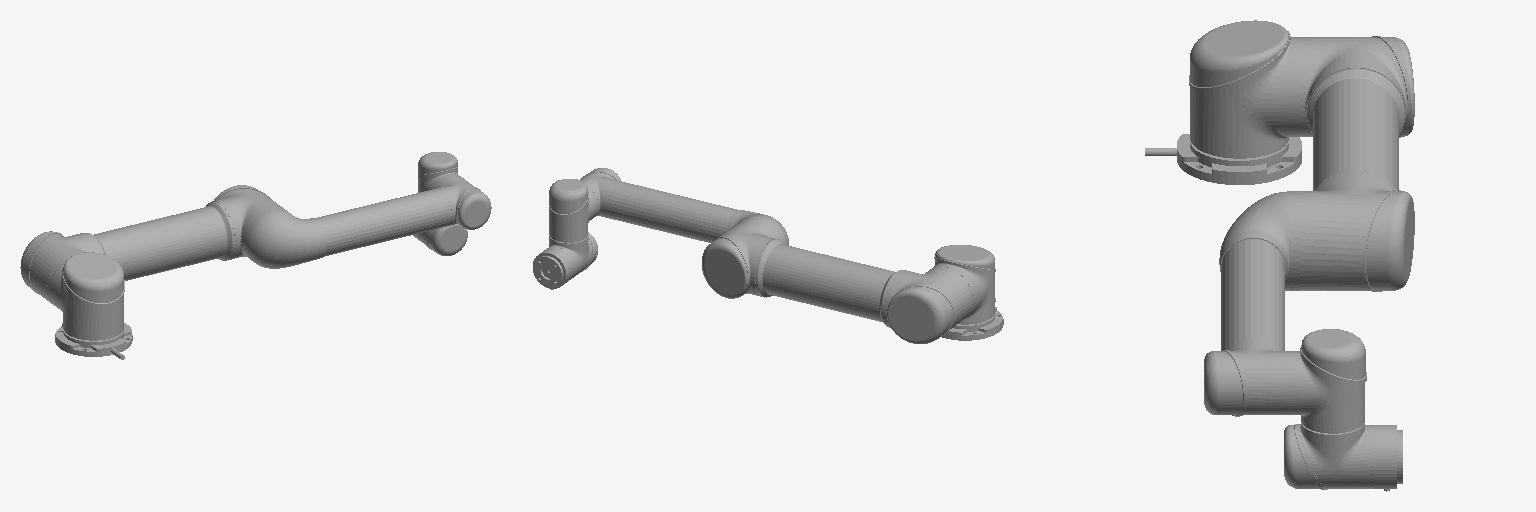
URDF robot description (ur5):
<?xml version="1.0" ?>
<!-- =================================================================================== -->
<!-- |    This document was autogenerated by xacro from universal_robot/ur_description/urdf/ur5_robot_.urdf.xacro | -->
<!-- |    EDITING THIS FILE BY HAND IS NOT RECOMMENDED                                 | -->
<!-- =================================================================================== -->
<robot name="ur5" xmlns:xacro="http://ros.org/wiki/xacro">
  <!-- measured from model -->
  <!--property name="shoulder_height" value="0.089159" /-->
  <!--property name="shoulder_offset" value="0.13585" /-->
  <!-- shoulder_offset - elbow_offset + wrist_1_length = 0.10915 -->
  <!--property name="upper_arm_length" value="0.42500" /-->
  <!--property name="elbow_offset" value="0.1197" /-->
  <!-- CAD measured -->
  <!--property name="forearm_length" value="0.39225" /-->
  <!--property name="wrist_1_length" value="0.093" /-->
  <!-- CAD measured -->
  <!--property name="wrist_2_length" value="0.09465" /-->
  <!-- In CAD this distance is 0.930, but in the spec it is 0.09465 -->
  <!--property name="wrist_3_length" value="0.0823" /-->
  <!-- manually measured -->
  <link name="base_link">
    <visual>
      <geometry>
        <mesh filename="package://ur_description/meshes/ur5/visual/base.dae"/>
      </geometry>
      <material name="LightGrey">
        <color rgba="0.7 0.7 0.7 1.0"/>
      </material>
    </visual>
    <collision>
      <geometry>
        <mesh filename="package://ur_description/meshes/ur5/collision/base.stl"/>
      </geometry>
    </collision>
    <inertial>
      <mass value="4.0"/>
      <origin rpy="0 0 0" xyz="0.0 0.0 0.0"/>
      <inertia ixx="0.00443333156" ixy="0.0" ixz="0.0" iyy="0.00443333156" iyz="0.0" izz="0.0072"/>
    </inertial>
  </link>
  <joint name="shoulder_pan_joint" type="revolute">
    <parent link="base_link"/>
    <child link="shoulder_link"/>
    <origin rpy="0.0 0.0 0.0" xyz="0.0 0.0 0.089159"/>
    <axis xyz="0 0 1"/>
    <limit effort="150.0" lower="-3.14159265359" upper="3.14159265359" velocity="3.15"/>
    <dynamics damping="0.0" friction="0.0"/>
  </joint>
  <link name="shoulder_link">
    <visual>
      <geometry>
        <mesh filename="package://ur_description/meshes/ur5/visual/shoulder.dae"/>
      </geometry>
      <material name="LightGrey">
        <color rgba="0.7 0.7 0.7 1.0"/>
      </material>
    </visual>
    <collision>
      <geometry>
        <mesh filename="package://ur_description/meshes/ur5/collision/shoulder.stl"/>
      </geometry>
    </collision>
    <inertial>
      <mass value="3.7"/>
      <origin rpy="0 0 0" xyz="0.0 0.0 0.0"/>
      <inertia ixx="0.010267495893" ixy="0.0" ixz="0.0" iyy="0.010267495893" iyz="0.0" izz="0.00666"/>
    </inertial>
  </link>
  <joint name="shoulder_lift_joint" type="revolute">
    <parent link="shoulder_link"/>
    <child link="upper_arm_link"/>
    <origin rpy="0.0 1.57079632679 0.0" xyz="0.0 0.13585 0.0"/>
    <axis xyz="0 1 0"/>
    <limit effort="150.0" lower="-3.14159265359" upper="3.14159265359" velocity="3.15"/>
    <dynamics damping="0.0" friction="0.0"/>
  </joint>
  <link name="upper_arm_link">
    <visual>
      <geometry>
        <mesh filename="package://ur_description/meshes/ur5/visual/upperarm.dae"/>
      </geometry>
      <material name="LightGrey">
        <color rgba="0.7 0.7 0.7 1.0"/>
      </material>
    </visual>
    <collision>
      <geometry>
        <mesh filename="package://ur_description/meshes/ur5/collision/upperarm.stl"/>
      </geometry>
    </collision>
    <inertial>
      <mass value="8.393"/>
      <origin rpy="0 0 0" xyz="0.0 0.0 0.28"/>
      <inertia ixx="0.22689067591" ixy="0.0" ixz="0.0" iyy="0.22689067591" iyz="0.0" izz="0.0151074"/>
    </inertial>
  </link>
  <joint name="elbow_joint" type="revolute">
    <parent link="upper_arm_link"/>
    <child link="forearm_link"/>
    <origin rpy="0.0 0.0 0.0" xyz="0.0 -0.1197 0.425"/>
    <axis xyz="0 1 0"/>
    <limit effort="150.0" lower="-3.14159265359" upper="3.14159265359" velocity="3.15"/>
    <dynamics damping="0.0" friction="0.0"/>
  </joint>
  <link name="forearm_link">
    <visual>
      <geometry>
        <mesh filename="package://ur_description/meshes/ur5/visual/forearm.dae"/>
      </geometry>
      <material name="LightGrey">
        <color rgba="0.7 0.7 0.7 1.0"/>
      </material>
    </visual>
    <collision>
      <geometry>
        <mesh filename="package://ur_description/meshes/ur5/collision/forearm.stl"/>
      </geometry>
    </collision>
    <inertial>
      <mass value="2.275"/>
      <origin rpy="0 0 0" xyz="0.0 0.0 0.25"/>
      <inertia ixx="0.049443313556" ixy="0.0" ixz="0.0" iyy="0.049443313556" iyz="0.0" izz="0.004095"/>
    </inertial>
  </link>
  <joint name="wrist_1_joint" type="revolute">
    <parent link="forearm_link"/>
    <child link="wrist_1_link"/>
    <origin rpy="0.0 1.57079632679 0.0" xyz="0.0 0.0 0.39225"/>
    <axis xyz="0 1 0"/>
    <limit effort="28.0" lower="-3.14159265359" upper="3.14159265359" velocity="3.2"/>
    <dynamics damping="0.0" friction="0.0"/>
  </joint>
  <link name="wrist_1_link">
    <visual>
      <geometry>
        <mesh filename="package://ur_description/meshes/ur5/visual/wrist1.dae"/>
      </geometry>
      <material name="LightGrey">
        <color rgba="0.7 0.7 0.7 1.0"/>
      </material>
    </visual>
    <collision>
      <geometry>
        <mesh filename="package://ur_description/meshes/ur5/collision/wrist1.stl"/>
      </geometry>
    </collision>
    <inertial>
      <mass value="1.219"/>
      <origin rpy="0 0 0" xyz="0.0 0.0 0.0"/>
      <inertia ixx="0.111172755531" ixy="0.0" ixz="0.0" iyy="0.111172755531" iyz="0.0" izz="0.21942"/>
    </inertial>
  </link>
  <joint name="wrist_2_joint" type="revolute">
    <parent link="wrist_1_link"/>
    <child link="wrist_2_link"/>
    <origin rpy="0.0 0.0 0.0" xyz="0.0 0.093 0.0"/>
    <axis xyz="0 0 1"/>
    <limit effort="28.0" lower="-3.14159265359" upper="3.14159265359" velocity="3.2"/>
    <dynamics damping="0.0" friction="0.0"/>
  </joint>
  <link name="wrist_2_link">
    <visual>
      <geometry>
        <mesh filename="package://ur_description/meshes/ur5/visual/wrist2.dae"/>
      </geometry>
      <material name="LightGrey">
        <color rgba="0.7 0.7 0.7 1.0"/>
      </material>
    </visual>
    <collision>
      <geometry>
        <mesh filename="package://ur_description/meshes/ur5/collision/wrist2.stl"/>
      </geometry>
    </collision>
    <inertial>
      <mass value="1.219"/>
      <origin rpy="0 0 0" xyz="0.0 0.0 0.0"/>
      <inertia ixx="0.111172755531" ixy="0.0" ixz="0.0" iyy="0.111172755531" iyz="0.0" izz="0.21942"/>
    </inertial>
  </link>
  <joint name="wrist_3_joint" type="revolute">
    <parent link="wrist_2_link"/>
    <child link="wrist_3_link"/>
    <origin rpy="0.0 0.0 0.0" xyz="0.0 0.0 0.09465"/>
    <axis xyz="0 1 0"/>
    <limit effort="28.0" lower="-3.14159265359" upper="3.14159265359" velocity="3.2"/>
    <dynamics damping="0.0" friction="0.0"/>
  </joint>
  <link name="wrist_3_link">
    <visual>
      <geometry>
        <mesh filename="package://ur_description/meshes/ur5/visual/wrist3.dae"/>
      </geometry>
      <material name="LightGrey">
        <color rgba="0.7 0.7 0.7 1.0"/>
      </material>
    </visual>
    <collision>
      <geometry>
        <mesh filename="package://ur_description/meshes/ur5/collision/wrist3.stl"/>
      </geometry>
    </collision>
    <inertial>
      <mass value="0.1879"/>
      <origin rpy="0 0 0" xyz="0.0 0.0 0.0"/>
      <inertia ixx="0.0171364731454" ixy="0.0" ixz="0.0" iyy="0.0171364731454" iyz="0.0" izz="0.033822"/>
    </inertial>
  </link>
  <joint name="ee_fixed_joint" type="fixed">
    <parent link="wrist_3_link"/>
    <child link="ee_link"/>
    <origin rpy="0.0 0.0 1.57079632679" xyz="0.0 0.0823 0.0"/>
  </joint>
  <link name="ee_link">
    <collision>
      <geometry>
        <box size="0.01 0.01 0.01"/>
      </geometry>
      <origin rpy="0 0 0" xyz="-0.01 0 0"/>
    </collision>
    <inertial>
      <mass value="0"/>
      <origin rpy="0 0 0" xyz="0 0 0"/>
      <inertia ixx="0" ixy="0" ixz="0" iyy="0" iyz="0" izz="0"/>
    </inertial>
  </link>
  <transmission name="shoulder_pan_trans">
    <type>transmission_interface/SimpleTransmission</type>
    <joint name="shoulder_pan_joint">
      <hardwareInterface>hardware_interface/PositionJointInterface</hardwareInterface>
    </joint>
    <actuator name="shoulder_pan_motor">
      <mechanicalReduction>1</mechanicalReduction>
    </actuator>
  </transmission>
  <transmission name="shoulder_lift_trans">
    <type>transmission_interface/SimpleTransmission</type>
    <joint name="shoulder_lift_joint">
      <hardwareInterface>hardware_interface/PositionJointInterface</hardwareInterface>
    </joint>
    <actuator name="shoulder_lift_motor">
      <mechanicalReduction>1</mechanicalReduction>
    </actuator>
  </transmission>
  <transmission name="elbow_trans">
    <type>transmission_interface/SimpleTransmission</type>
    <joint name="elbow_joint">
      <hardwareInterface>hardware_interface/PositionJointInterface</hardwareInterface>
    </joint>
    <actuator name="elbow_motor">
      <mechanicalReduction>1</mechanicalReduction>
    </actuator>
  </transmission>
  <transmission name="wrist_1_trans">
    <type>transmission_interface/SimpleTransmission</type>
    <joint name="wrist_1_joint">
      <hardwareInterface>hardware_interface/PositionJointInterface</hardwareInterface>
    </joint>
    <actuator name="wrist_1_motor">
      <mechanicalReduction>1</mechanicalReduction>
    </actuator>
  </transmission>
  <transmission name="wrist_2_trans">
    <type>transmission_interface/SimpleTransmission</type>
    <joint name="wrist_2_joint">
      <hardwareInterface>hardware_interface/PositionJointInterface</hardwareInterface>
    </joint>
    <actuator name="wrist_2_motor">
      <mechanicalReduction>1</mechanicalReduction>
    </actuator>
  </transmission>
  <transmission name="wrist_3_trans">
    <type>transmission_interface/SimpleTransmission</type>
    <joint name="wrist_3_joint">
      <hardwareInterface>hardware_interface/PositionJointInterface</hardwareInterface>
    </joint>
    <actuator name="wrist_3_motor">
      <mechanicalReduction>1</mechanicalReduction>
    </actuator>
  </transmission>
  <!-- nothing to do here at the moment -->
  <!-- ROS base_link to UR 'Base' Coordinates transform -->
  <link name="base">
    <inertial>
      <mass value="0"/>
      <origin rpy="0 0 0" xyz="0 0 0"/>
      <inertia ixx="0" ixy="0" ixz="0" iyy="0" iyz="0" izz="0"/>
    </inertial>
  </link>
  <joint name="base_link-base_fixed_joint" type="fixed">
    <!-- NOTE: this rotation is only needed as long as base_link itself is
                 not corrected wrt the real robot (ie: rotated over 180
                 degrees)
      -->
    <origin rpy="0 0 -3.14159265359" xyz="0 0 0"/>
    <parent link="base_link"/>
    <child link="base"/>
  </joint>
  <!-- Frame coincident with all-zeros TCP on UR controller -->
  <link name="tool0">
    <inertial>
      <mass value="0"/>
      <origin rpy="0 0 0" xyz="0 0 0"/>
      <inertia ixx="0" ixy="0" ixz="0" iyy="0" iyz="0" izz="0"/>
    </inertial>
  </link>
  <joint name="wrist_3_link-tool0_fixed_joint" type="fixed">
    <origin rpy="-1.57079632679 0 0" xyz="0 0.0823 0"/>
    <parent link="wrist_3_link"/>
    <child link="tool0"/>
  </joint>
  <link name="world"/>
  <joint name="world_joint" type="fixed">
    <parent link="world"/>
    <child link="base_link"/>
    <origin rpy="0.0 0.0 0.0" xyz="0.0 0.0 0.0"/>
  </joint>


  <!-- tool -->
  <link name="tool">
    <inertial>
      <mass value="0"/>
      <origin rpy="0 0 0" xyz="0 0 0"/>
      <inertia ixx="0" ixy="0" ixz="0" iyy="0" iyz="0" izz="0"/>
    </inertial>
  </link>

  <joint name="tool_joint" type="fixed">
    <origin rpy="0 0 0" xyz="0 0 0"/>
    <parent link="tool0"/>
    <child link="tool"/>
  </joint>

</robot>

--- Facts derived from the render (not from the file) ---
The picture shows the robot from 3 angles, left to right: view 1: azimuth 30°, elevation 25°; view 2: azimuth 150°, elevation 25°; view 3: azimuth 270°, elevation 25°; orthographic projection.
Robot: ur5 — 12 links, 11 joints (6 revolute, 5 fixed); root link world; default pose: all joints at 0.
Links seen in each view (by area): view 1: upper_arm_link, forearm_link, shoulder_link, base_link, wrist_1_link, wrist_2_link; view 2: upper_arm_link, forearm_link, shoulder_link, wrist_1_link, wrist_3_link, wrist_2_link, base_link; view 3: upper_arm_link, forearm_link, shoulder_link, wrist_1_link, wrist_2_link, base_link, wrist_3_link.
Link boxes in pixels (x1,y1,x2,y2): upper_arm_link: [20, 185, 283, 305]; forearm_link: [243, 175, 491, 268]; shoulder_link: [49, 252, 124, 340]; base_link: [55, 323, 132, 359]; wrist_1_link: [418, 152, 458, 192]; wrist_2_link: [413, 224, 467, 255]; upper_arm_link: [702, 220, 972, 343]; forearm_link: [580, 168, 788, 245]; shoulder_link: [933, 245, 995, 324]; wrist_1_link: [549, 179, 597, 242]; wrist_3_link: [533, 248, 572, 289]; wrist_2_link: [547, 232, 597, 279]; base_link: [942, 298, 1003, 340]; upper_arm_link: [1300, 36, 1414, 291]; forearm_link: [1204, 191, 1299, 416]; shoulder_link: [1189, 20, 1299, 158]; wrist_1_link: [1294, 329, 1366, 433]; wrist_2_link: [1284, 422, 1373, 489]; base_link: [1145, 134, 1301, 184]; wrist_3_link: [1374, 425, 1402, 491].
Bounding box of the posed robot: 0.9295 × 0.3144 × 0.2062 m (x, y, z).
Meshes: 7 distinct files referenced, 7 mesh visuals loaded (7 Collada DAE).